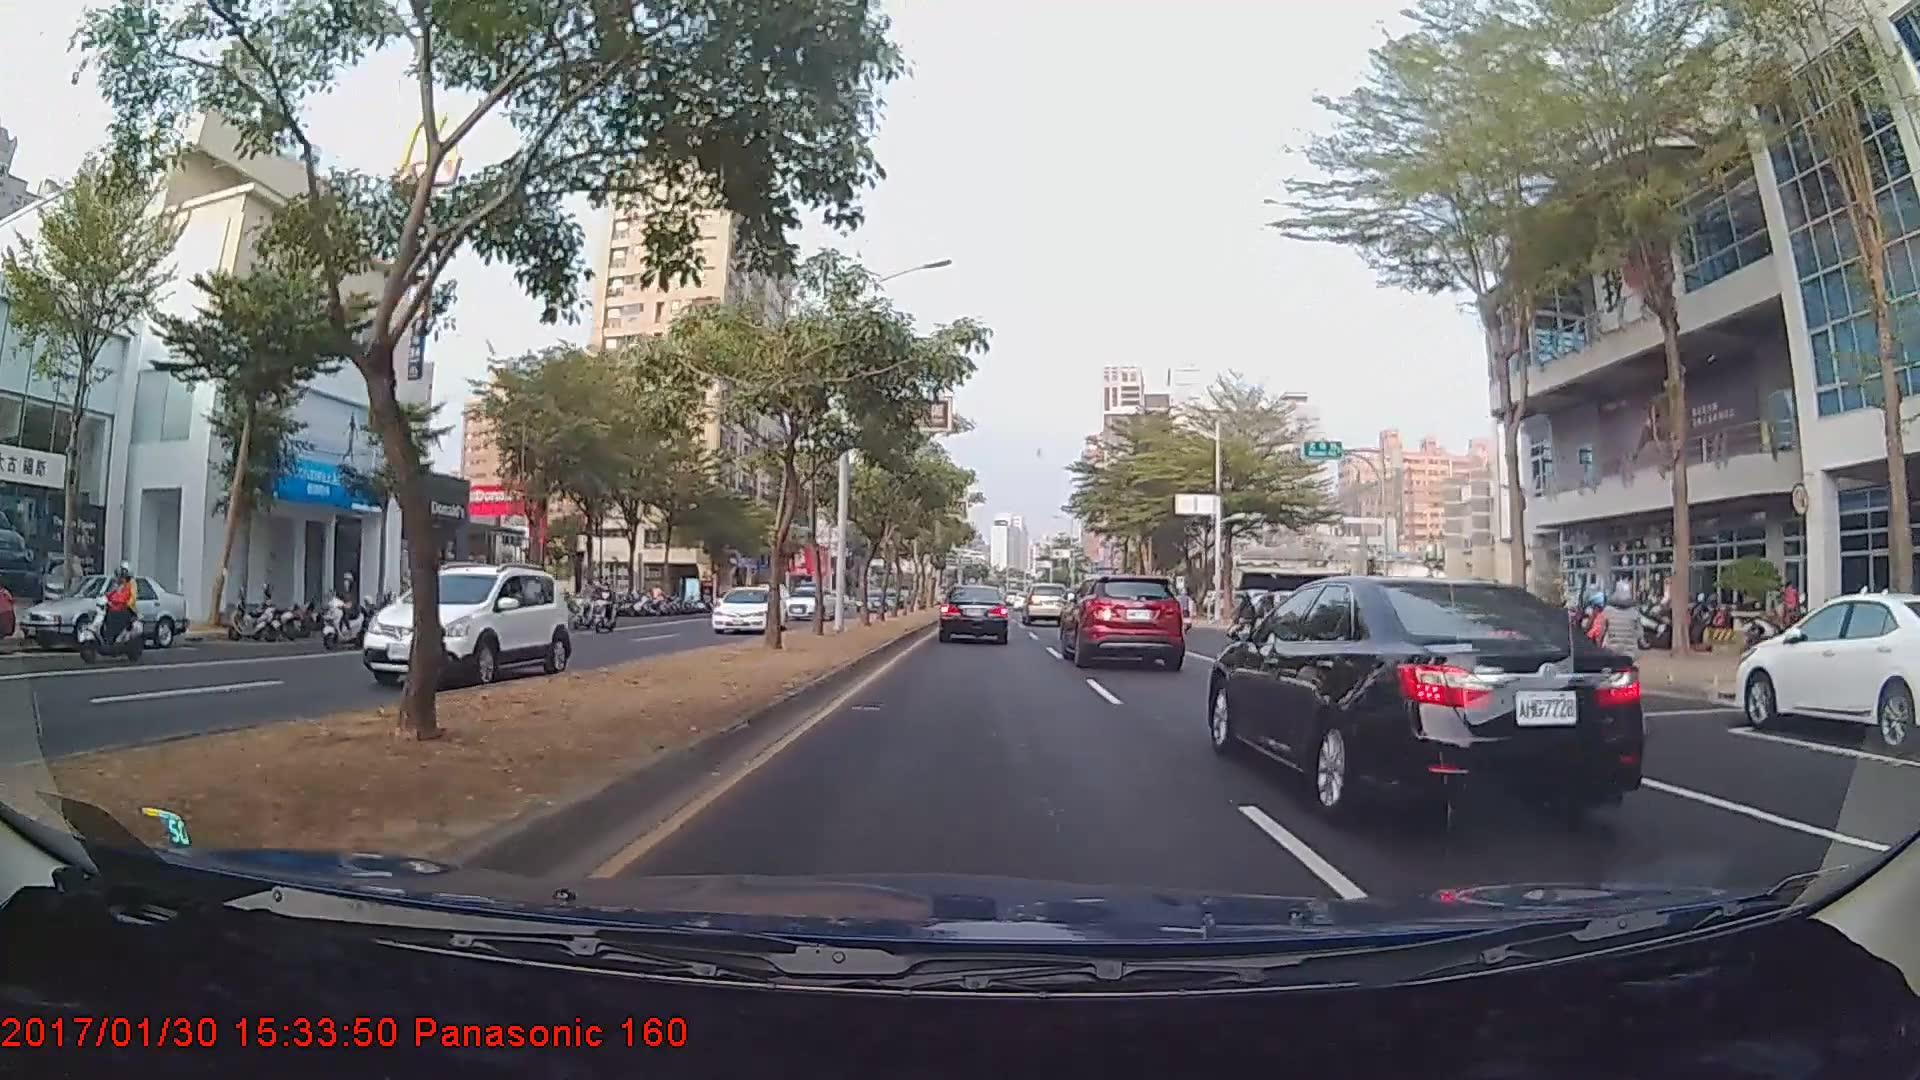rider: (1518, 584, 1602, 720), (67, 561, 153, 665), (318, 570, 377, 651)
vehicle: (1208, 560, 1620, 826), (1732, 590, 1920, 752), (357, 560, 578, 690), (17, 570, 186, 648), (1061, 574, 1185, 667), (938, 583, 1010, 645), (710, 585, 786, 634), (776, 586, 839, 621), (1022, 581, 1066, 626)
